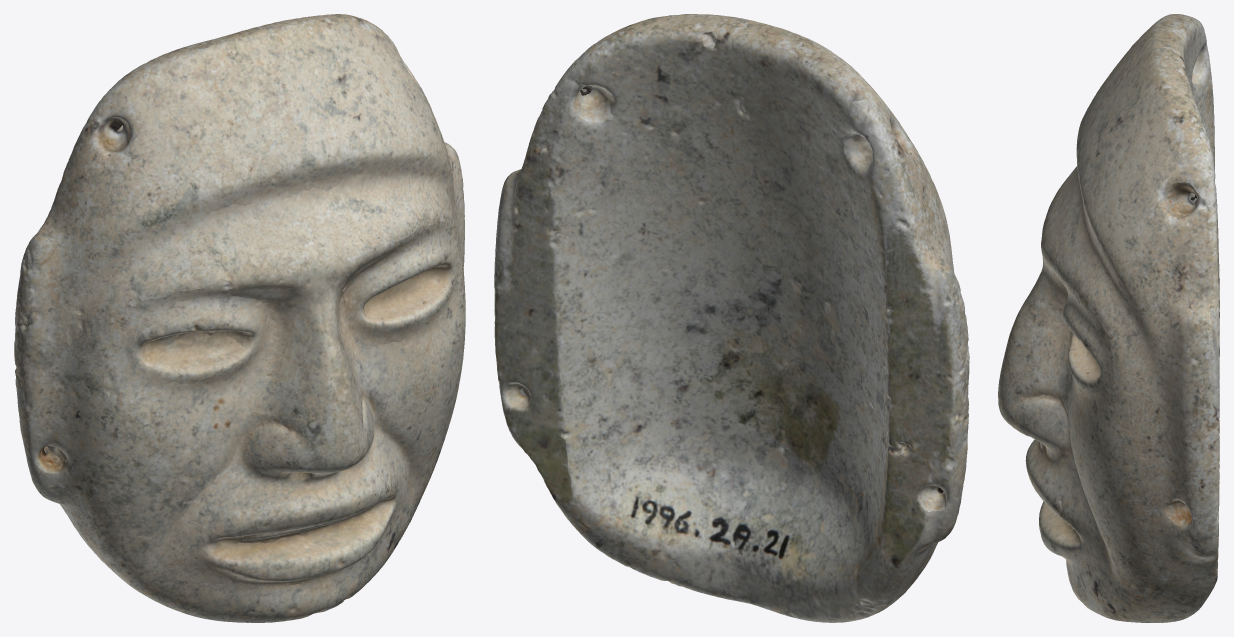
Rendered from about.opt.glb.
3 renders of one model, left to right at view 1: azimuth 30°, elevation 25°; view 2: azimuth 150°, elevation 25°; view 3: azimuth 270°, elevation 25°, orthographic. The views are drawn at different scales.
Size of the model in its own units: 0.0695 by 0.0844 by 0.031.
Materials: 1 (1 with a texture image).
